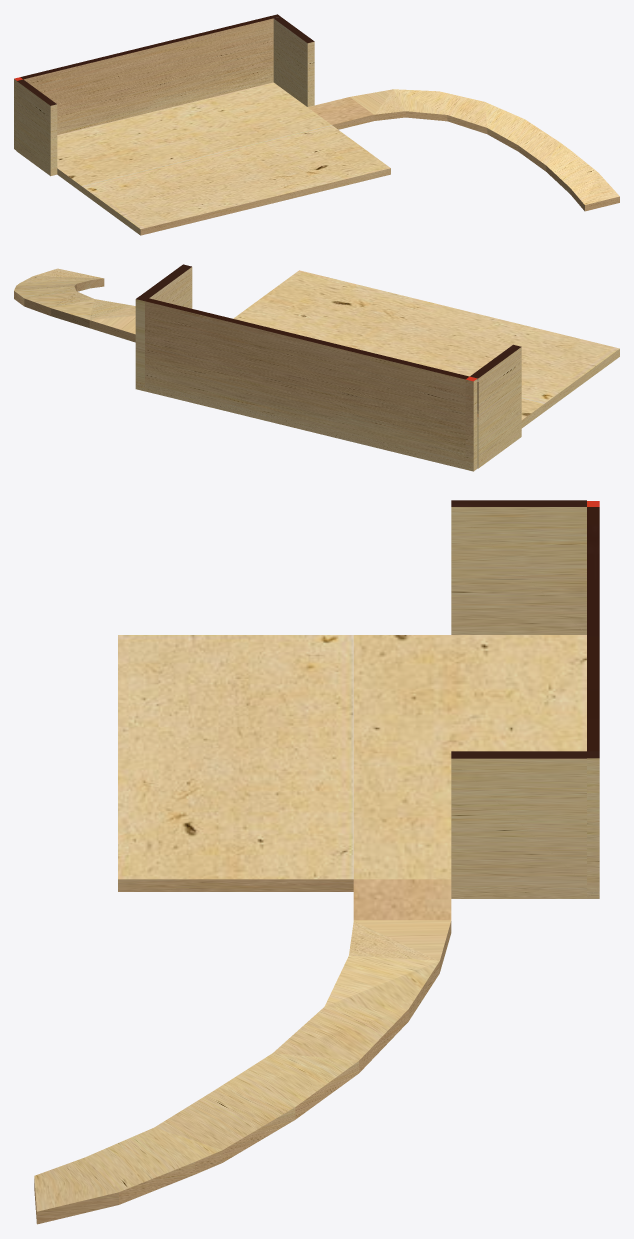
The model's file is ramp.obj.
3 views of the same model, one above another, from view 1: azimuth 30°, elevation 25°; view 2: azimuth 150°, elevation 25°; view 3: azimuth 270°, elevation 25° (orthographic). The views are drawn at different scales.
Visible parts, largest first — view 1: Cube_Cube.001; view 2: Cube_Cube.001; view 3: Cube_Cube.001.
Part boxes in pixels (x1,y1,x2,y2): Cube_Cube.001: (14,14,619,235); Cube_Cube.001: (14,264,619,471); Cube_Cube.001: (34,500,599,1224).
Bounding box in the file's own units: 22.06 × 6.1 × 11.6.
